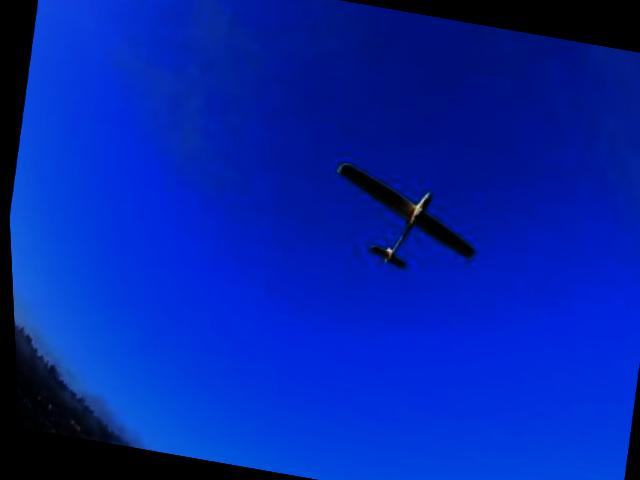uav: (309, 149, 490, 289)
